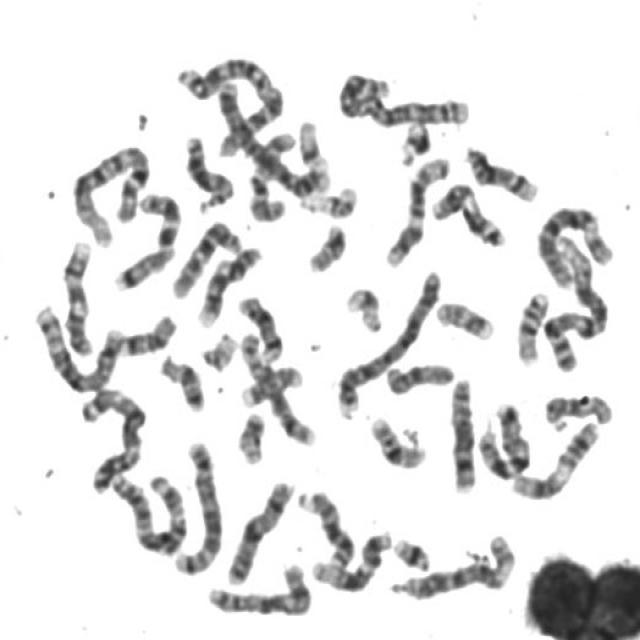A1: (539, 224, 613, 375), (66, 138, 154, 250)
A2: (170, 48, 288, 155), (333, 66, 472, 130)
A3: (75, 381, 150, 496), (105, 465, 189, 559)
B4: (330, 261, 444, 419), (213, 74, 332, 198)
B5: (28, 298, 126, 394), (167, 434, 225, 578)
C10: (166, 213, 243, 300), (242, 124, 299, 223)
C11: (506, 415, 602, 501), (425, 175, 509, 249)
C12: (379, 148, 452, 269), (306, 524, 394, 593)
C6: (386, 529, 519, 603), (531, 200, 617, 289)
C7: (108, 187, 184, 292), (472, 396, 532, 481)
C8: (236, 325, 319, 448), (444, 370, 478, 494)
C9: (192, 241, 265, 328), (55, 233, 96, 359)
D13: (293, 484, 358, 571), (179, 128, 237, 209)
D14: (459, 139, 541, 204), (233, 290, 285, 362)
D15: (538, 387, 616, 432), (380, 356, 457, 396)
E16: (364, 409, 429, 471), (512, 286, 552, 366)
E17: (236, 359, 305, 409), (430, 294, 497, 342)
E18: (154, 349, 206, 414), (115, 308, 178, 359)
F19: (294, 178, 360, 218), (340, 281, 384, 335)
F20: (430, 294, 497, 342), (303, 217, 348, 275)
G21: (392, 115, 434, 168), (388, 531, 434, 573)
G22: (231, 405, 267, 467), (196, 326, 240, 374)
X: (221, 473, 297, 588), (200, 557, 313, 619)
